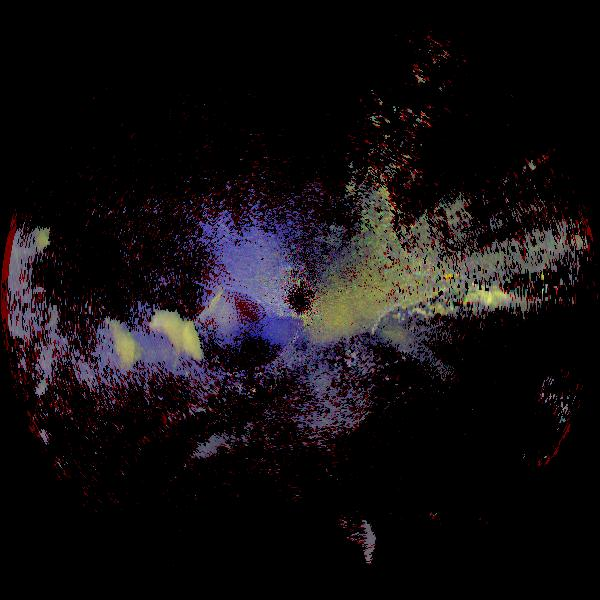roost: (91, 290, 226, 425), (51, 307, 162, 418), (153, 263, 252, 362)
